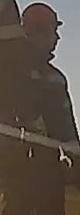helmet: (21, 1, 63, 29)
vest: (27, 58, 74, 159)
